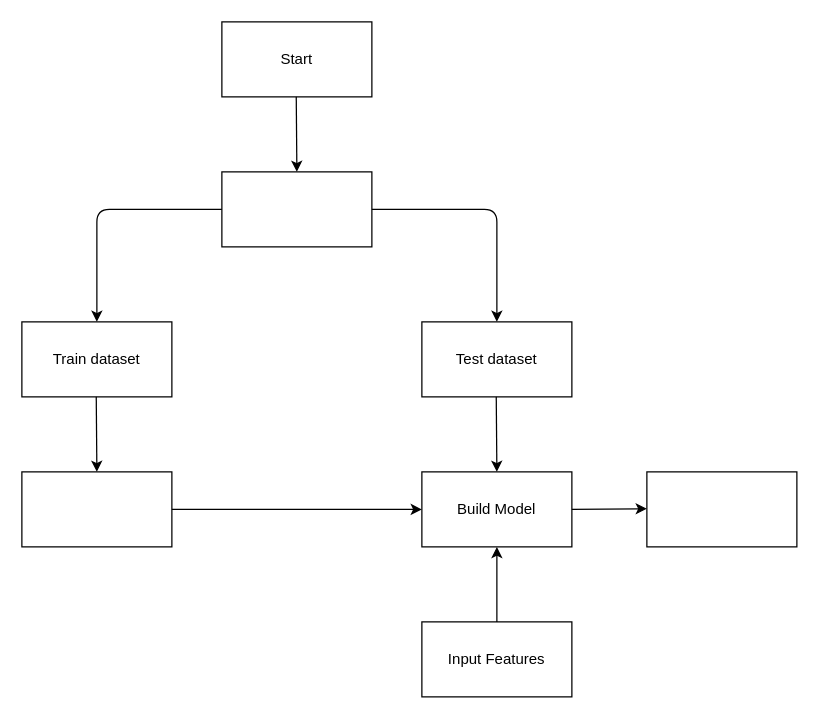
Some shapes in this 819 by 719 pixel diagram are drawn without their labels. The centre of each missing label's shape, as x and y in pixels:
Dataset: [296,209]
Linear Regression: [96,509]
Price Prediction: [721,509]
